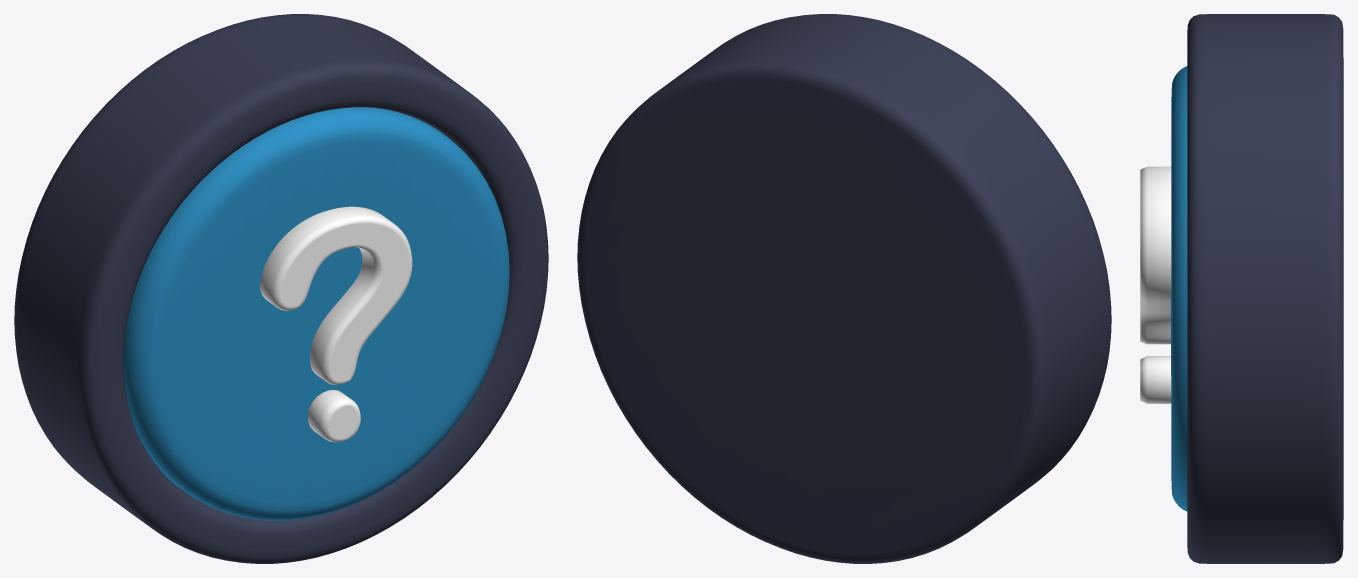
Rendered from question-animated-3d-icon-222871564494.glb.
3 views of the same model, side by side, from view 1: azimuth 30°, elevation 25°; view 2: azimuth 150°, elevation 25°; view 3: azimuth 270°, elevation 25° (orthographic).
Parts seen in each view (by area): view 1: Circle.005, Base .003, Question Mark.001; view 2: Base .003; view 3: Base .003, Circle.005, Question Mark.001.
Boxes of the visible parts, x1,y1,x2,y2 form: Circle.005: [123, 107, 509, 520]; Base .003: [14, 14, 548, 563]; Question Mark.001: [260, 206, 412, 442]; Base .003: [577, 14, 1111, 563]; Base .003: [1187, 14, 1343, 563]; Circle.005: [1171, 66, 1187, 511]; Question Mark.001: [1140, 166, 1171, 403].
Bounding box in the file's own units: 1.99 × 1.99 × 0.734.
